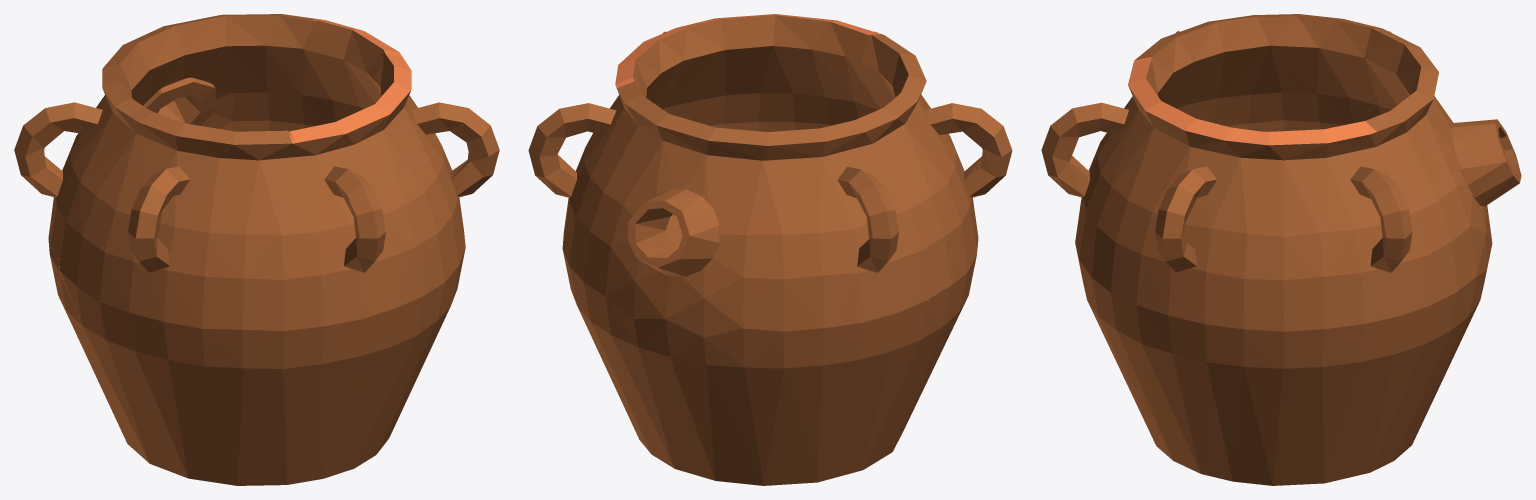
The model's file is Pottery 1_3b.fbx.
3 renders of one model, left to right at view 1: azimuth 30°, elevation 25°; view 2: azimuth 150°, elevation 25°; view 3: azimuth 270°, elevation 25°, orthographic.
Parts seen in each view (by area): view 1: Pottery 1_3.003, Pottery 1_3.007, Pottery 1_3b, Pottery 1_3.001, Pottery 1_3.002, Pottery 1_3.005, Pottery 1_3.004, Pottery 1_3.006; view 2: Pottery 1_3.001, Pottery 1_3.004, Pottery 1_3.002, Pottery 1_3.007, Pottery 1_3.003, Pottery 1_3.005, Pottery 1_3b; view 3: Pottery 1_3.005, Pottery 1_3.007, Pottery 1_3.006, Pottery 1_3.001, Pottery 1_3.003, Pottery 1_3b, Pottery 1_3.002, Pottery 1_3.004.
Boxes of the visible parts, x1,y1,x2,y2 form: Pottery 1_3.003: [58, 107, 295, 404]; Pottery 1_3.007: [275, 54, 499, 397]; Pottery 1_3b: [109, 321, 398, 485]; Pottery 1_3.001: [103, 14, 316, 131]; Pottery 1_3.002: [14, 64, 143, 269]; Pottery 1_3.005: [260, 19, 402, 131]; Pottery 1_3.004: [53, 251, 156, 407]; Pottery 1_3.006: [378, 198, 465, 417]; Pottery 1_3.001: [589, 81, 825, 361]; Pottery 1_3.004: [593, 289, 945, 460]; Pottery 1_3.002: [756, 100, 926, 369]; Pottery 1_3.007: [652, 14, 889, 131]; Pottery 1_3.003: [861, 34, 1012, 349]; Pottery 1_3.005: [528, 38, 673, 340]; Pottery 1_3b: [622, 354, 940, 485]; Pottery 1_3.005: [1206, 121, 1477, 424]; Pottery 1_3.007: [1041, 59, 1261, 364]; Pottery 1_3.006: [1117, 272, 1297, 459]; Pottery 1_3.001: [1365, 28, 1521, 290]; Pottery 1_3.003: [1134, 14, 1315, 131]; Pottery 1_3b: [1115, 359, 1421, 485]; Pottery 1_3.002: [1270, 14, 1401, 129]; Pottery 1_3.004: [1324, 289, 1482, 436].
Bounding box in the file's own units: 88.77 × 83.24 × 102.
